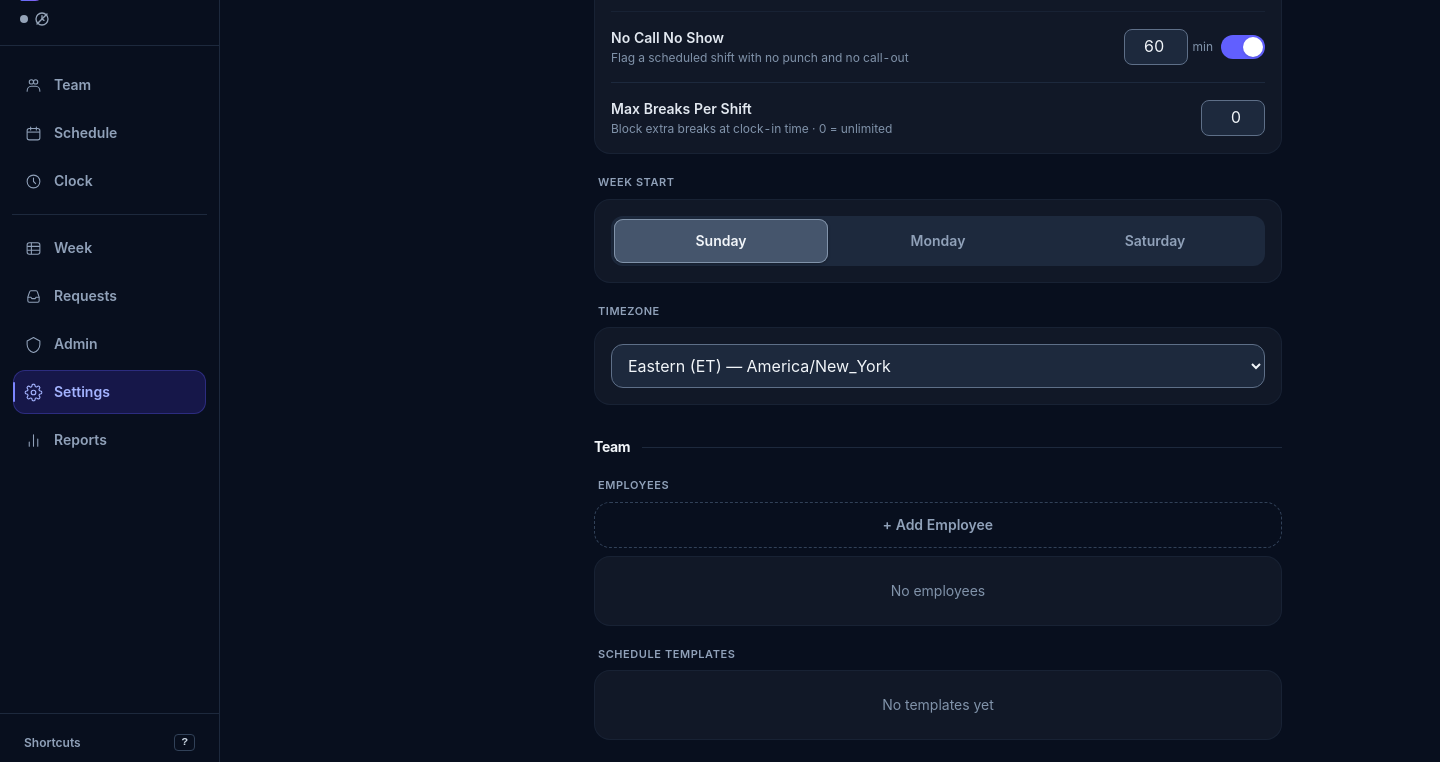
Test: SettingsPageClient — auto-save › Timezone › shows 'Saved ✓' after timezone change succeeds
(page scrolled)
Select "Central (CT) — America/Chicago" in the dropdown named "Timezone" at (938, 366), box [611, 344, 1265, 388]
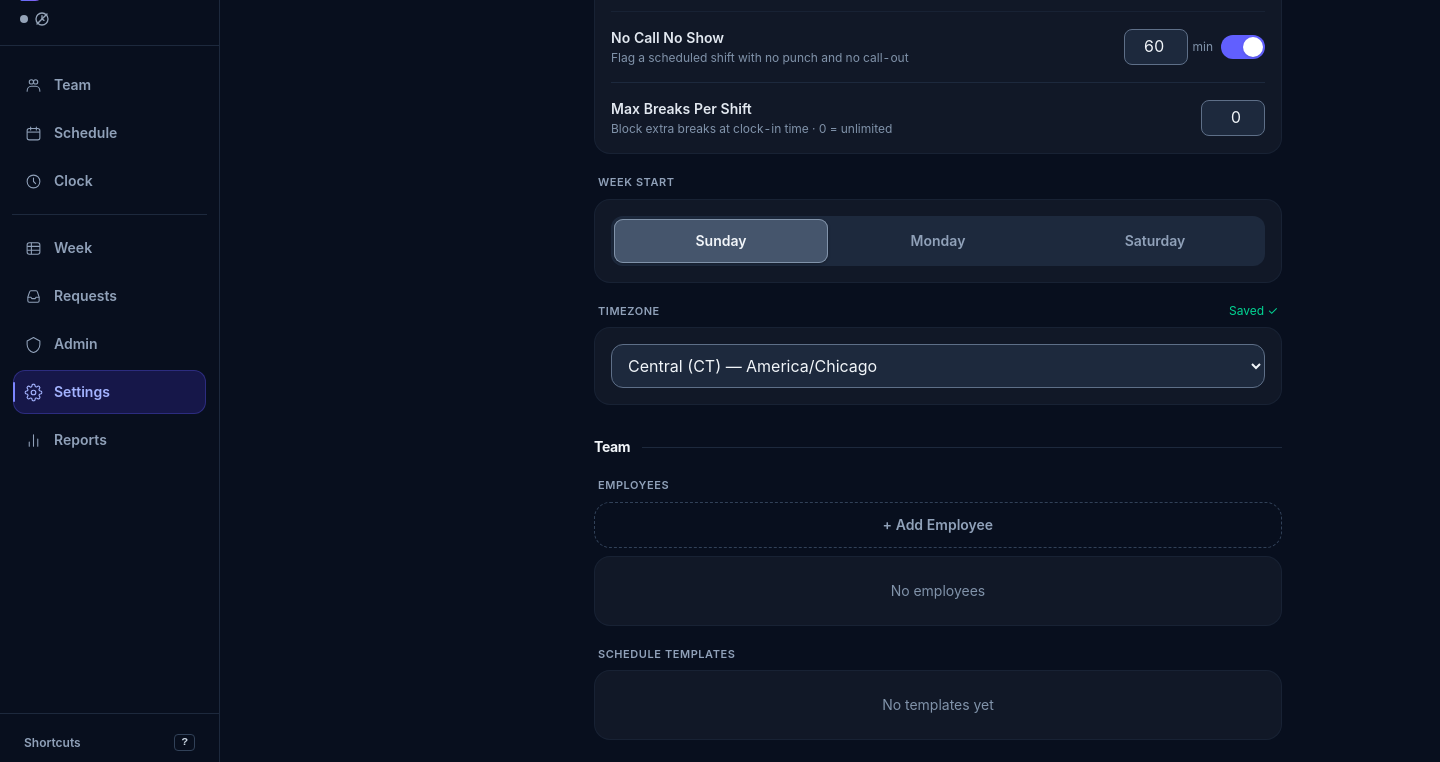
Check: the element with test id "timezone-status" shows "Saved", box [1229, 302, 1278, 318]
